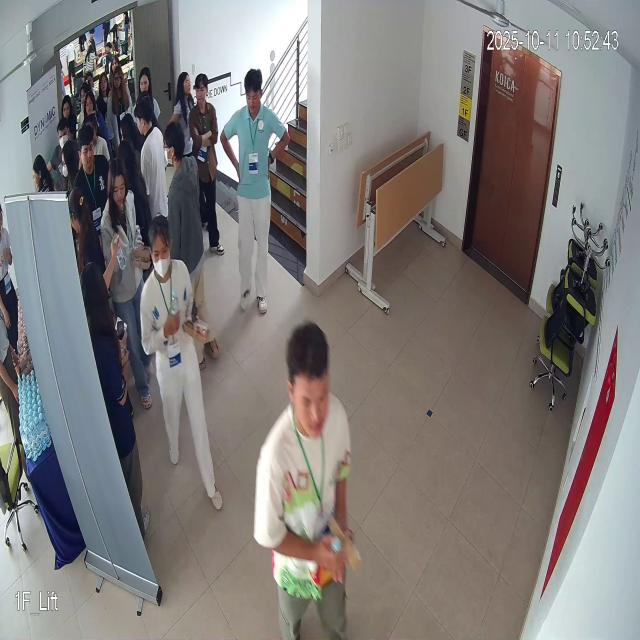face: (147, 208, 174, 288), (104, 154, 130, 214), (243, 66, 266, 118)
